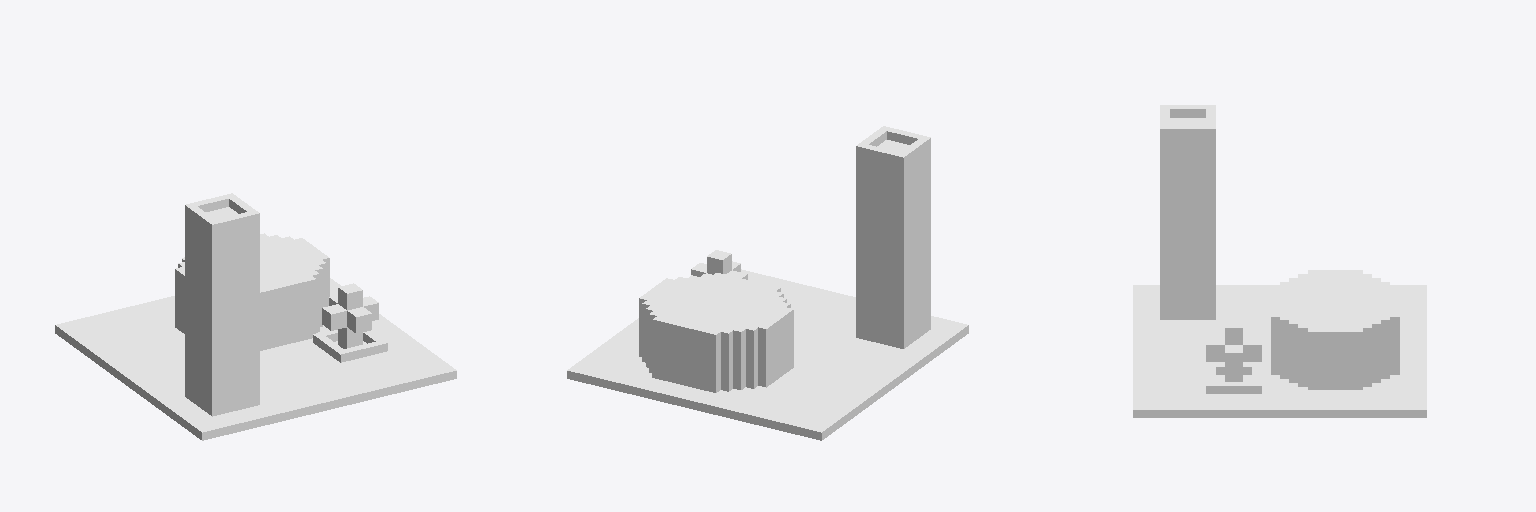
The model's file is house3.obj.
The picture shows the model from 3 angles: view 1: azimuth 30°, elevation 25°; view 2: azimuth 150°, elevation 25°; view 3: azimuth 270°, elevation 25°; orthographic projection.
Visible parts, largest first — view 1: object 1; view 2: object 1; view 3: object 1.
Part boxes in pixels (left/top/right/bottom): object 1: left=55, top=193, right=456, bottom=440; object 1: left=567, top=126, right=968, bottom=440; object 1: left=1133, top=105, right=1426, bottom=417.
Bounding box in the file's own units: 3.2 × 2.4 × 3.2.